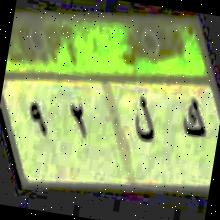2: (63, 92, 98, 146)
9: (24, 95, 52, 141)
kaaf: (177, 92, 213, 148)
laam: (130, 86, 162, 154)
